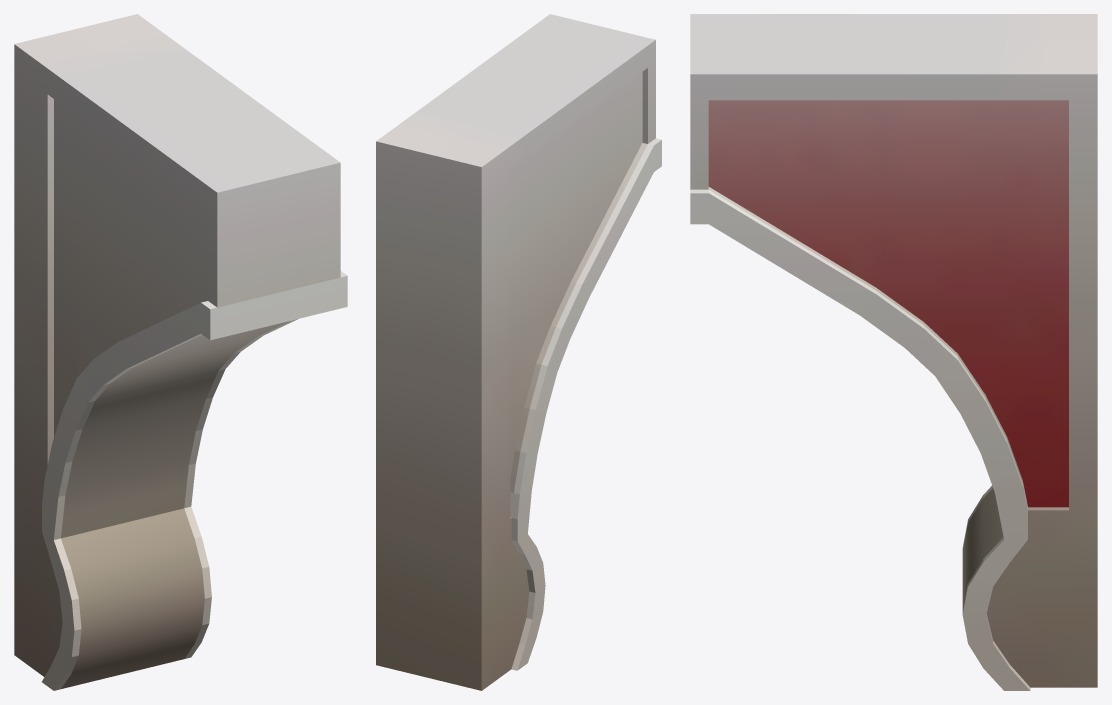
Rendered from M_Arch_05.fbx.
3 views of the same model, side by side, from view 1: azimuth 30°, elevation 25°; view 2: azimuth 150°, elevation 25°; view 3: azimuth 270°, elevation 25° (orthographic). The views are drawn at different scales.
Visible parts, largest first — view 1: M_Arch_05; view 2: M_Arch_05; view 3: M_Arch_05.
Part boxes in pixels (x1,y1,x2,y2): M_Arch_05: (14, 14, 347, 690); M_Arch_05: (376, 14, 661, 690); M_Arch_05: (690, 14, 1097, 690).
Size of the model in its own units: 167 by 710 by 428.
Materials: 1 (1 with a texture image).
